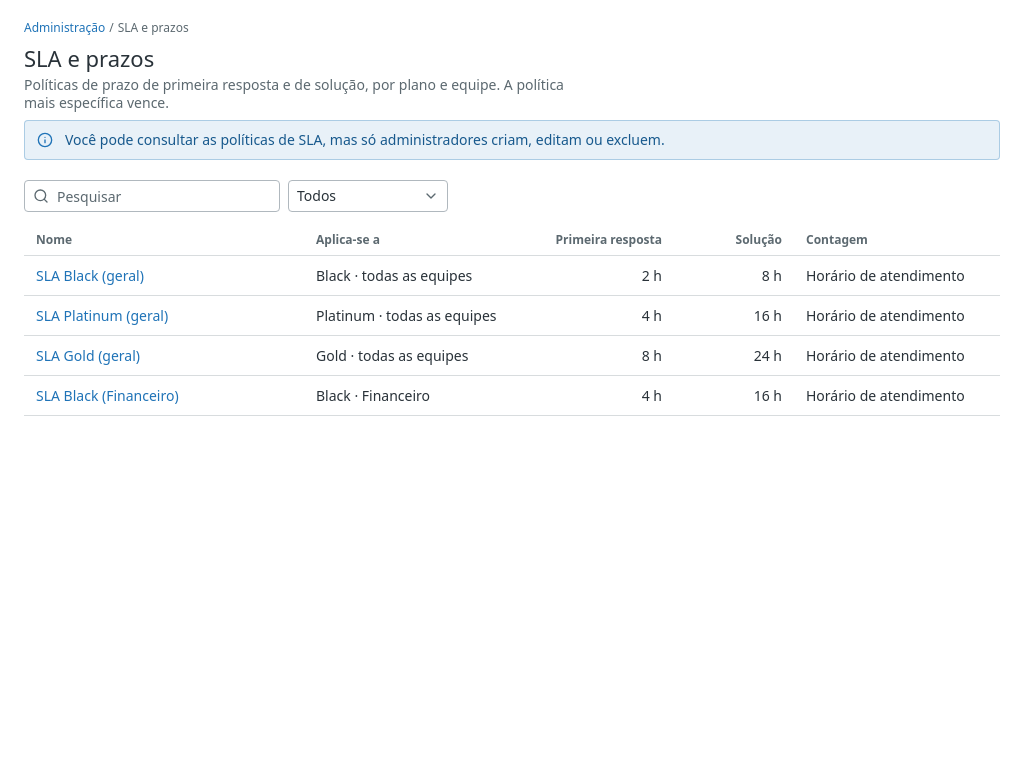
it: modo leitura (sem permissão de escrita) › SLA: explica, esconde "Nova política" e abre a política só para consulta
The width and height of the screenshot is (1024, 768).
Expected: the text "só administradores criam, editam ou excluem" is shown, [65, 130, 665, 149]
Step 1. Click the button "SLA Black (geral)" → {"x": 90, "y": 276}, box [36, 266, 144, 284]
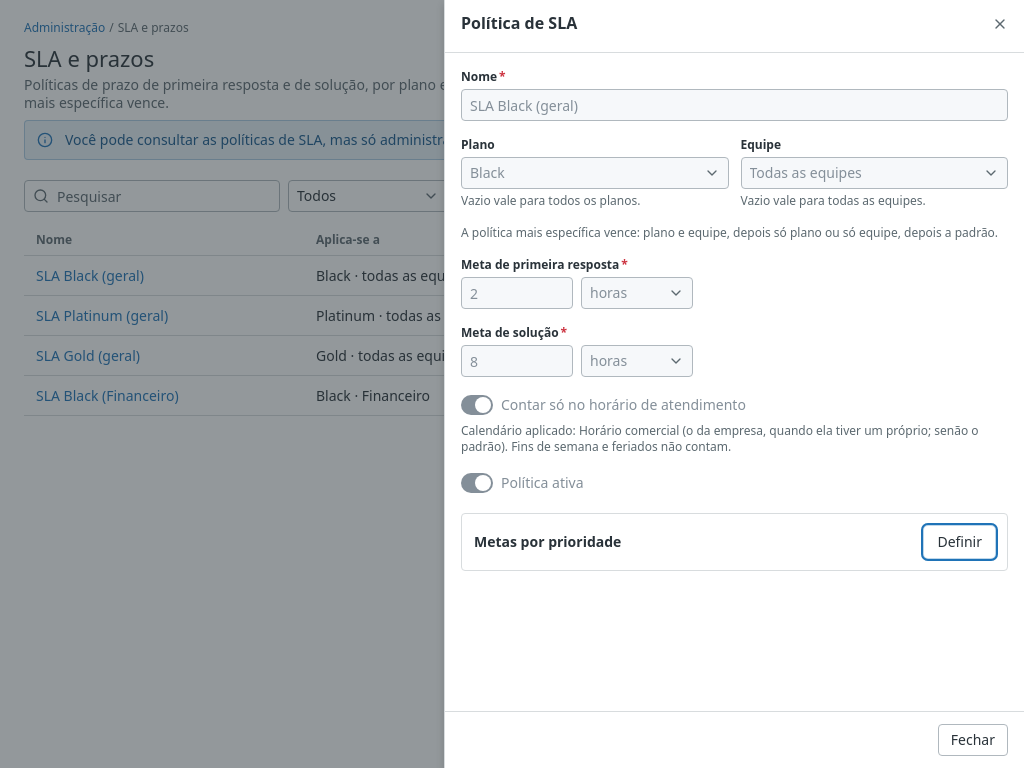
Expected: the field labelled "Nome*" is disabled, [462, 90, 1007, 120]
